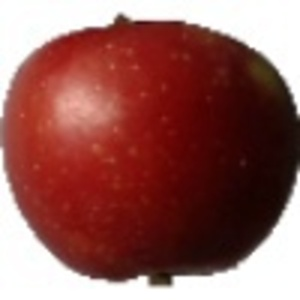maçã braeburn: (1, 13, 300, 287)
